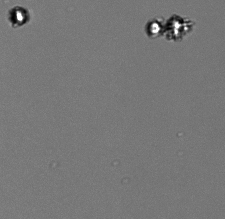Living Cell: (164, 13, 193, 42), (9, 3, 30, 28), (144, 17, 164, 38)
